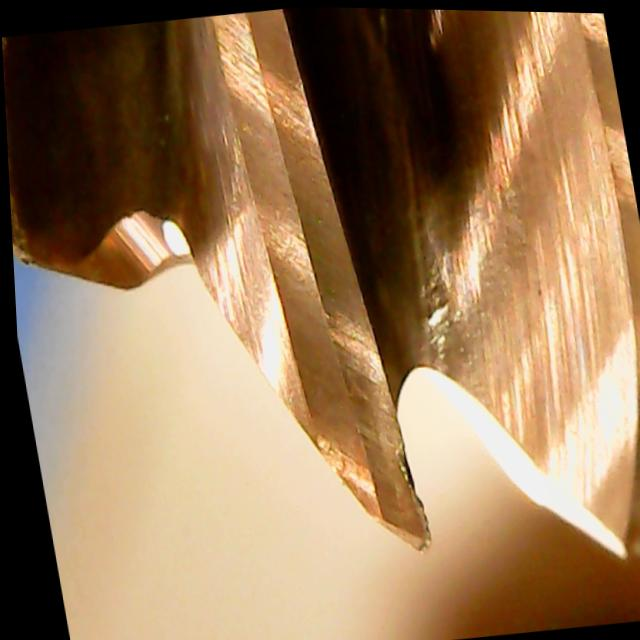Tool-wear-class-1: (268, 271, 434, 572)
